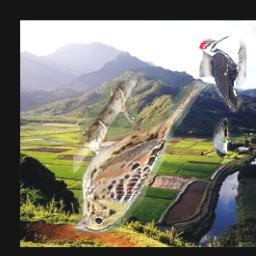Cuckoo: (213, 119, 231, 159)
Sparrow: (72, 81, 206, 235)
Woodpecker: (198, 36, 245, 113)
